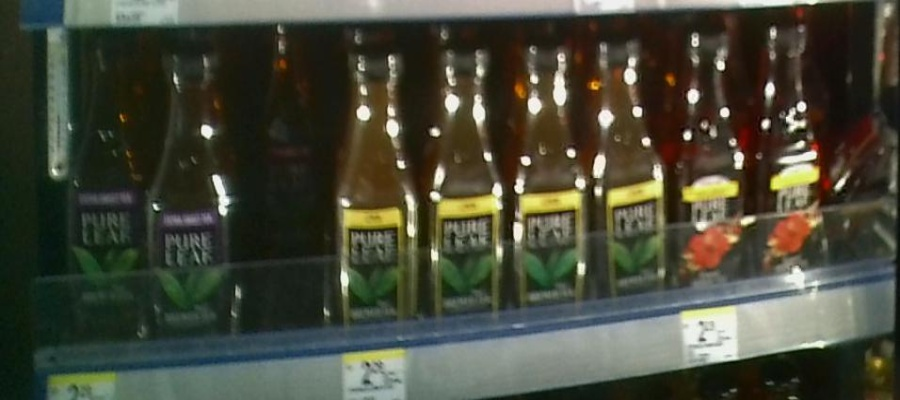bottle: (147, 43, 244, 345), (330, 42, 421, 338), (63, 44, 144, 348), (424, 48, 507, 337), (589, 43, 669, 310), (671, 28, 747, 302), (512, 45, 587, 313), (753, 14, 830, 272), (249, 21, 322, 214)
